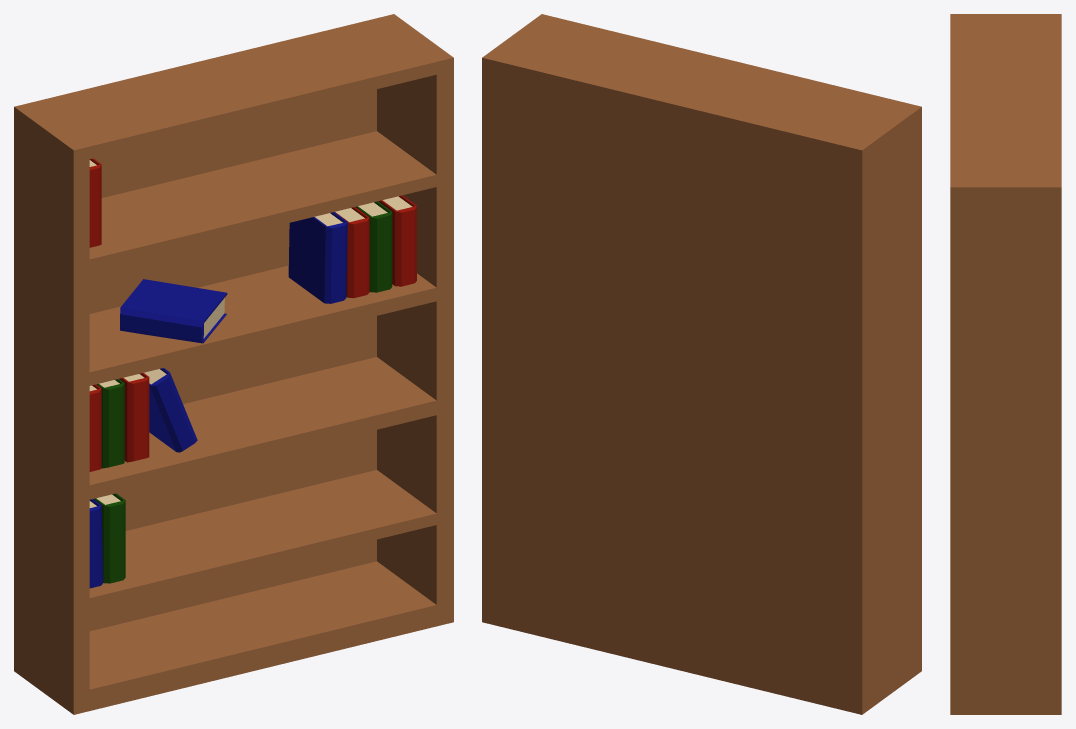
3 renders of one model, left to right at view 1: azimuth 30°, elevation 25°; view 2: azimuth 150°, elevation 25°; view 3: azimuth 270°, elevation 25°, orthographic. The views are drawn at different scales.
Parts seen in each view (by area): view 1: book_shelf, Book.011, Book.007, Book.003, Book.004, Book.002, Book.005, Book.009, Book.006, Book.001, Book.008, Book.010 (+1 smaller); view 2: book_shelf; view 3: book_shelf.
Boxes of the visible parts, x1,y1,x2,y2 form: book_shelf: (14, 14, 453, 714); Book.011: (120, 279, 227, 343); Book.007: (288, 212, 347, 303); Book.003: (144, 368, 197, 452); Book.004: (378, 195, 416, 286); Book.002: (119, 373, 149, 462); Book.005: (355, 201, 392, 292); Book.009: (93, 493, 125, 583); Book.006: (335, 207, 369, 298); Book.001: (96, 379, 124, 468); Book.008: (89, 499, 103, 588); Book.010: (89, 158, 101, 247); book_shelf: (482, 14, 921, 714); book_shelf: (950, 14, 1061, 714).
Size of the model in its own units: 414 by 587 by 113.
